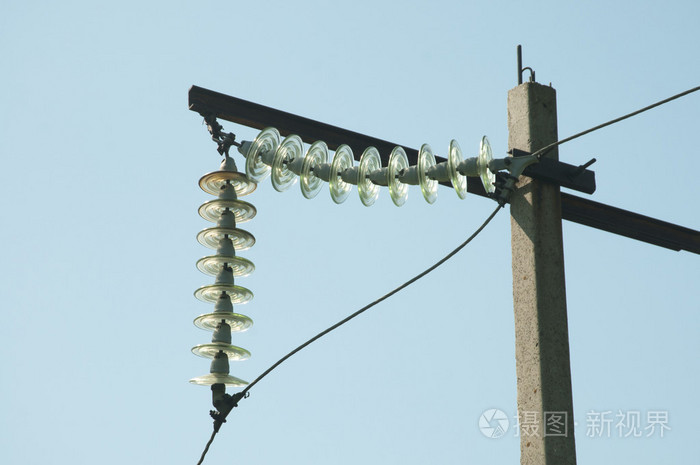insulator: (252, 124, 498, 209), (191, 172, 252, 388)
